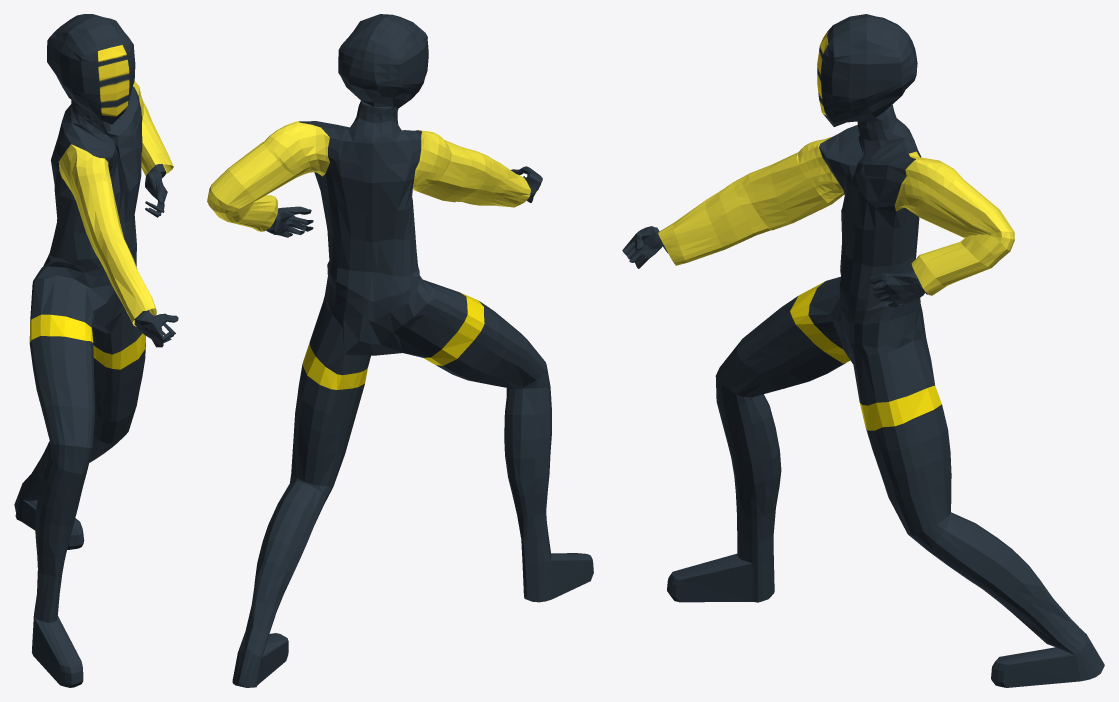
The model's file is Sentry_WL_000016.obj.
The picture shows the model from 3 angles, left to right: view 1: azimuth 30°, elevation 25°; view 2: azimuth 150°, elevation 25°; view 3: azimuth 270°, elevation 25°; orthographic projection. The views are drawn at different scales.
Parts seen in each view (by area): view 1: Cube; view 2: Cube; view 3: Cube.
Part boxes in pixels (box(x1,y1,x2,y2)): Cube: box(14, 14, 178, 687); Cube: box(207, 14, 593, 687); Cube: box(622, 14, 1104, 687).
Bounding box in the file's own units: 1.46 × 3.59 × 2.44.
